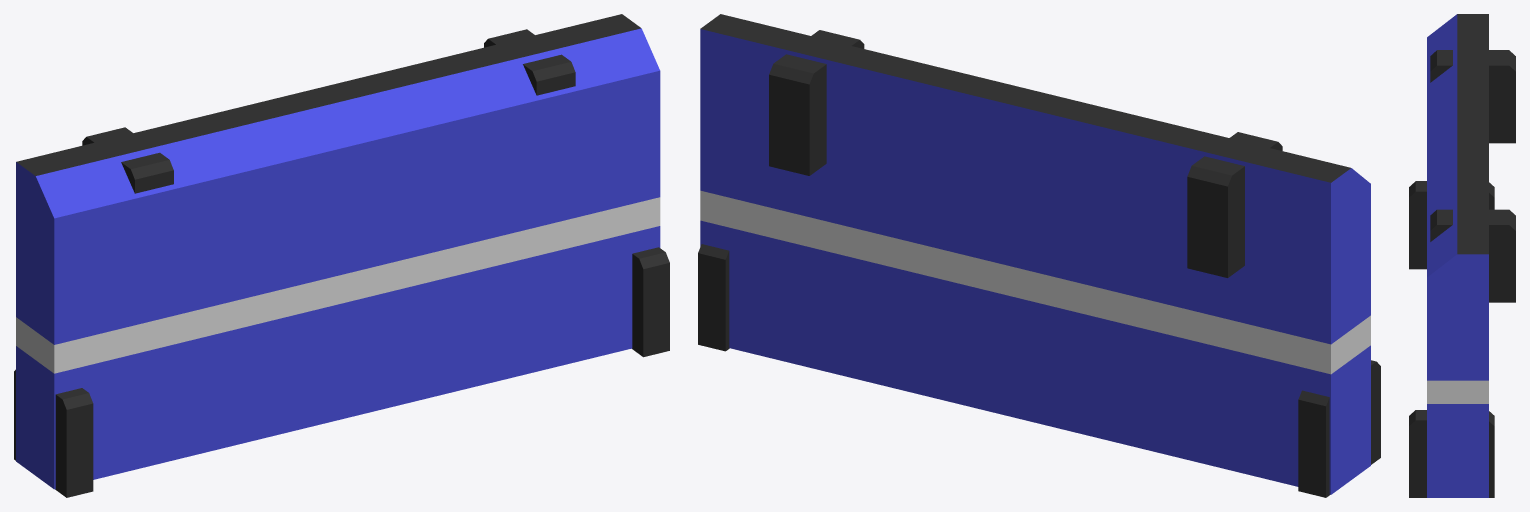
The model's file is facilityWall.fbx.
3 renders of one model, left to right at view 1: azimuth 30°, elevation 25°; view 2: azimuth 150°, elevation 25°; view 3: azimuth 270°, elevation 25°, orthographic. The views are drawn at different scales.
Parts seen in each view (by area): view 1: Cube.185; view 2: Cube.185; view 3: Cube.185.
Part boxes in pixels (x1,y1,x2,y2): Cube.185: (14,14,669,497); Cube.185: (698,14,1380,497); Cube.185: (1409,14,1515,497).
Size of the model in its own units: 612 by 290 by 115.
